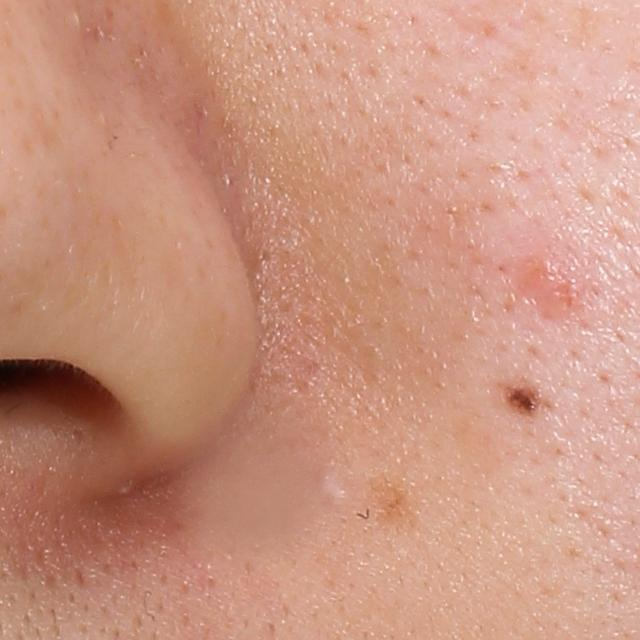nevus: (492, 377, 552, 416)
